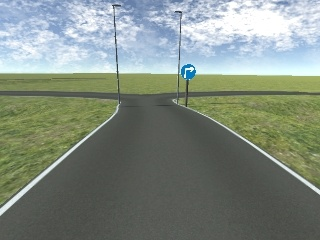TRight: (180, 63, 197, 81)
